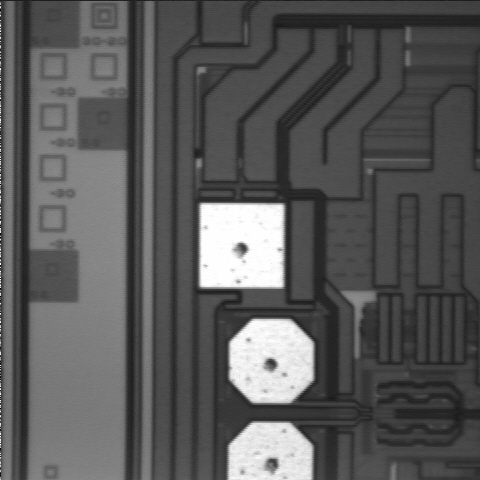pad: (200, 203, 284, 288), (229, 319, 313, 403)
